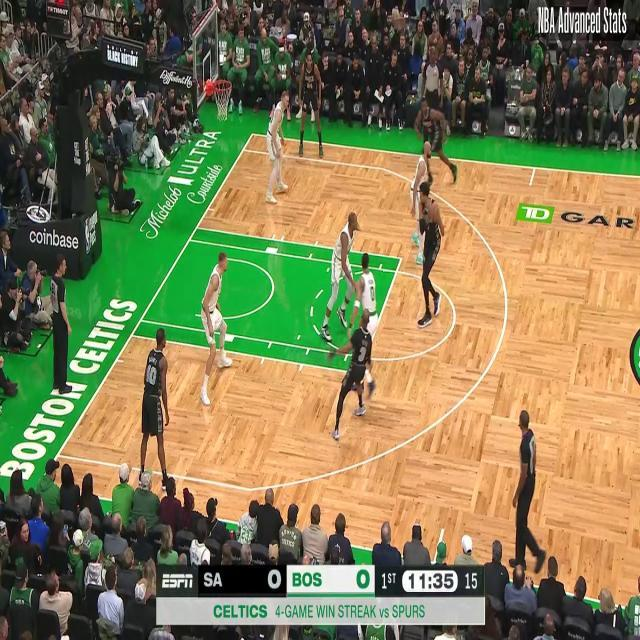ball: (428, 198, 444, 226)
player: (326, 306, 376, 442), (137, 327, 171, 496), (197, 250, 233, 408), (319, 209, 361, 344), (414, 180, 446, 330), (412, 96, 460, 188), (293, 48, 329, 164), (352, 255, 380, 386), (406, 142, 434, 268), (264, 87, 291, 206)
